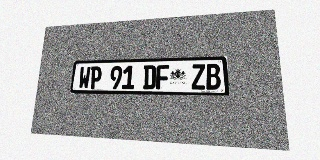1: (122, 65, 135, 89)
9: (110, 66, 123, 89)
B: (206, 64, 221, 90)
D: (143, 65, 156, 89)
F: (156, 65, 169, 89)
P: (89, 66, 102, 89)
W: (78, 66, 91, 89)
Z: (191, 64, 206, 90)
